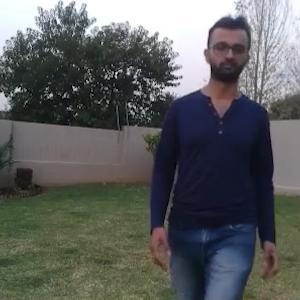follow: (156, 33, 258, 299)
